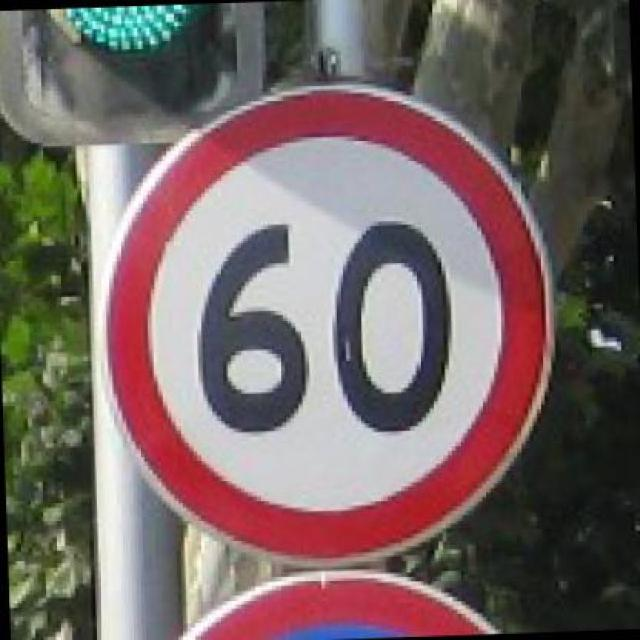Limite-60: (100, 82, 557, 567)
